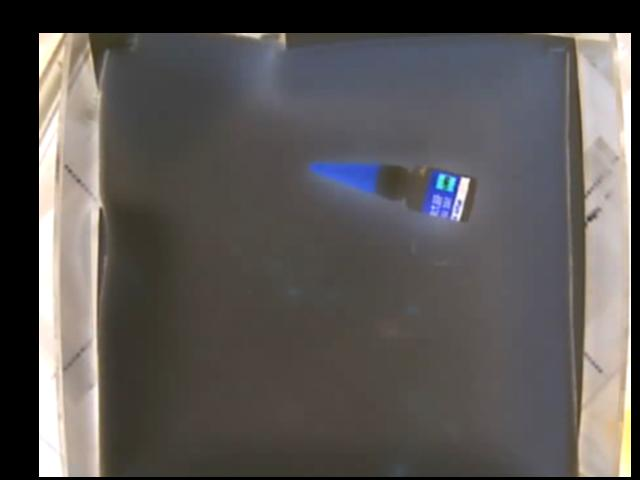Bottle: (310, 161, 476, 219)
